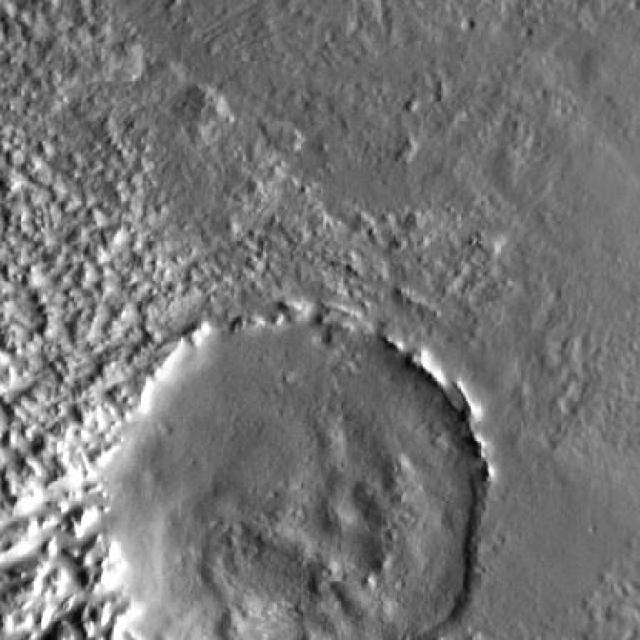crater: (88, 306, 484, 640)
